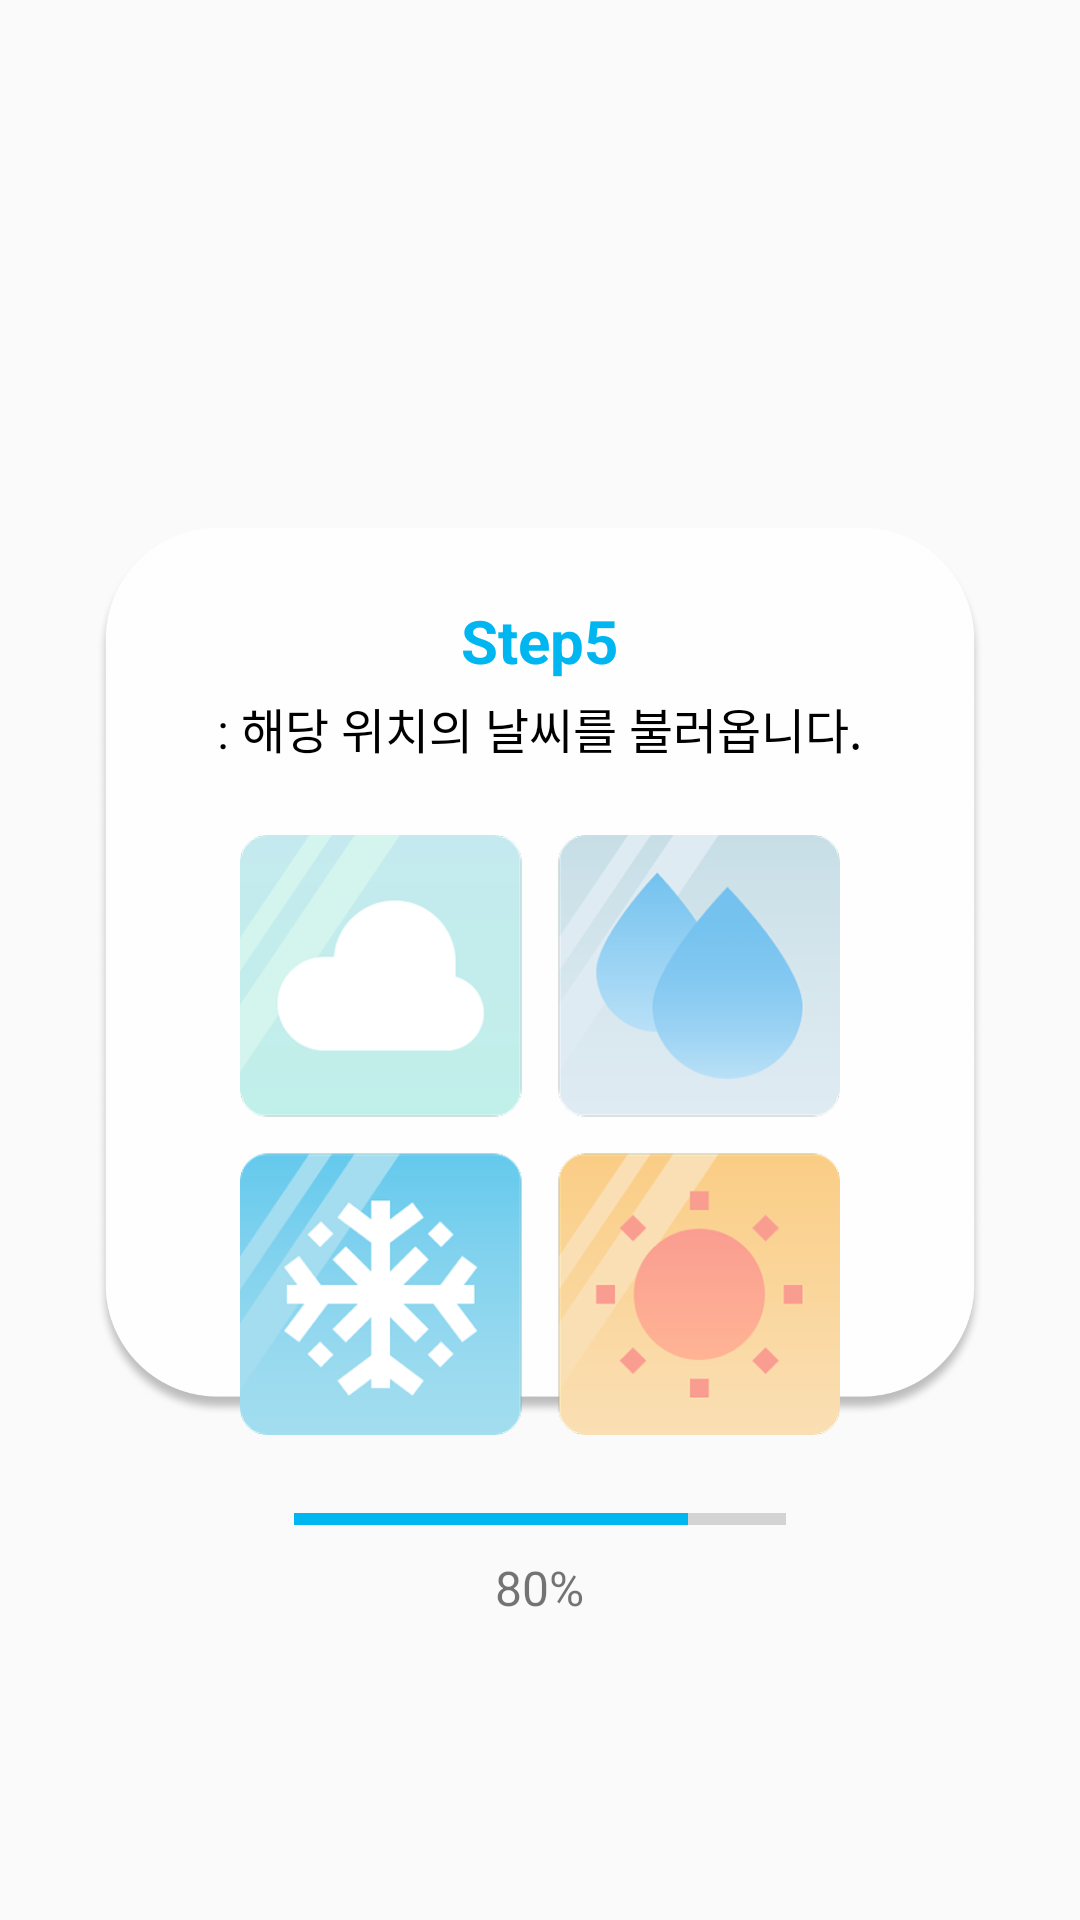

Screen size 1080px x 1920px. Icon name, then its box in pixels as bbox=[x1, y1, x2, y2]:
rain: bbox=[558, 835, 840, 1117]
snow: bbox=[240, 1153, 540, 1435]
sunny: bbox=[540, 1153, 840, 1435]
구름: bbox=[240, 835, 522, 1117]
